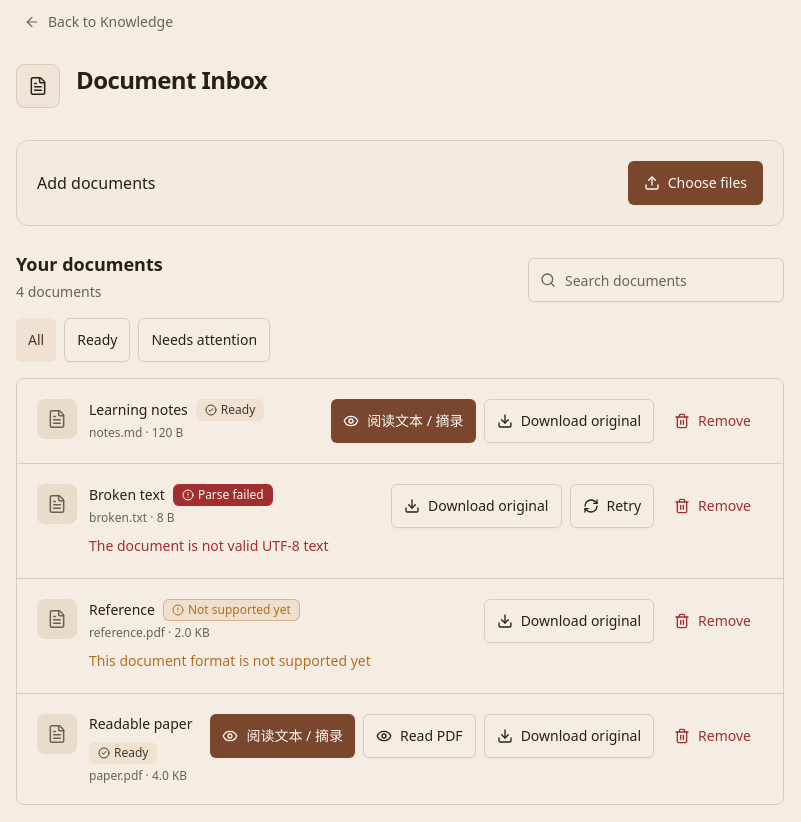
Scenario: Knowledge page › filters on a narrow-flow control without hiding the recovery action
What coordinates should you click on to do the following:
click the button "Needs attention"
I would click on:
 (204, 340)
Its box is x1=138 y1=318 x2=270 y2=362.
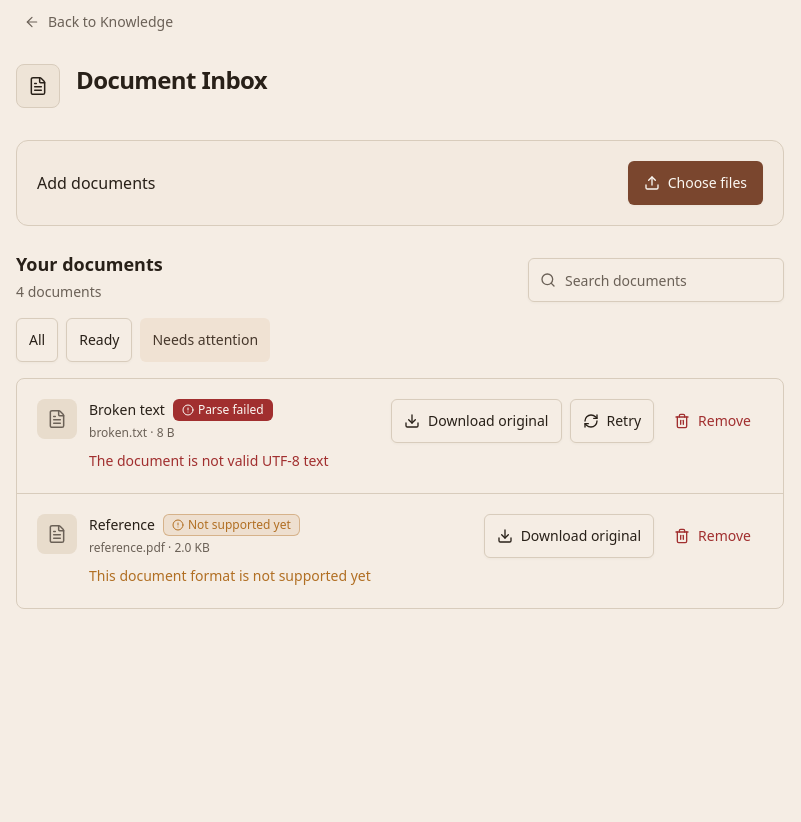
Check: the heading "Broken text" is shown, box x1=89 y1=400 x2=165 y2=420
Check: the heading "Learning notes" is gone
